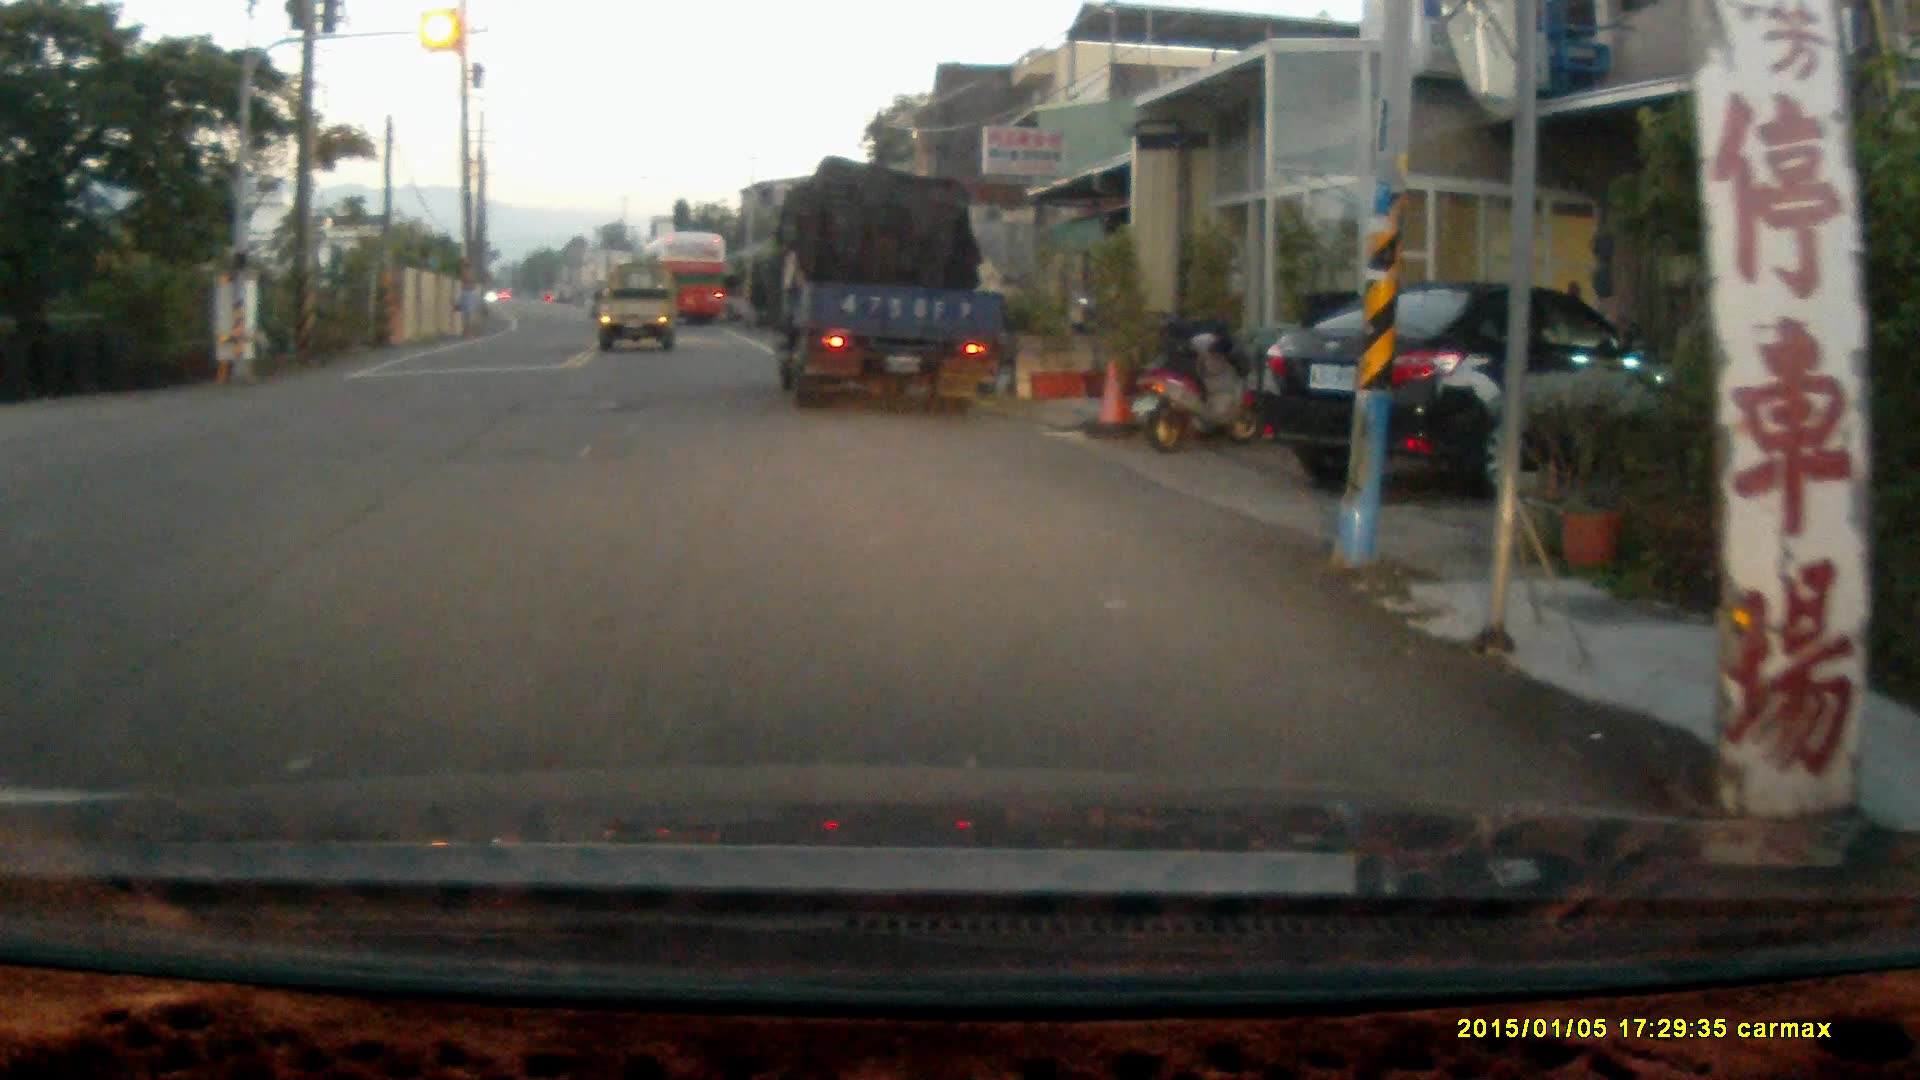vehicle: (1251, 280, 1685, 497), (758, 167, 1007, 409), (644, 236, 736, 336), (597, 272, 676, 353)
